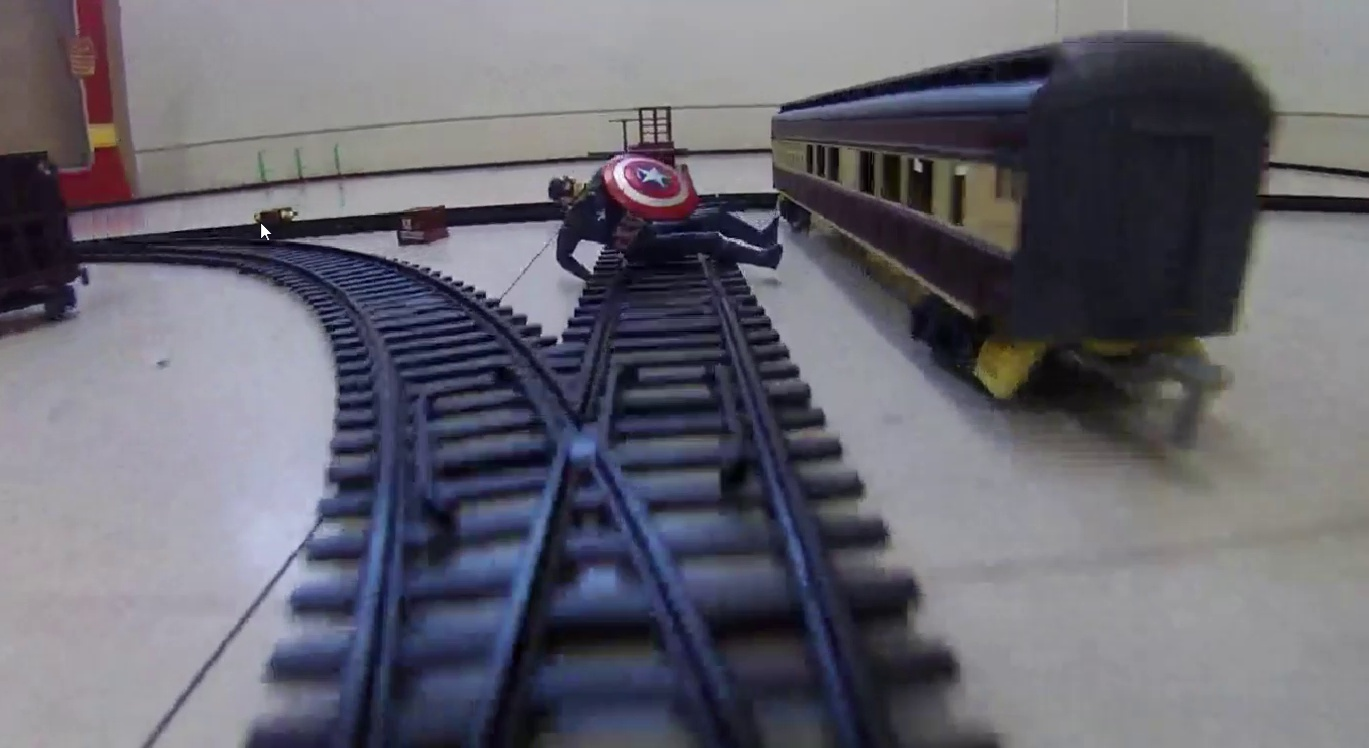box: (398, 206, 446, 245)
people: (549, 152, 784, 281)
